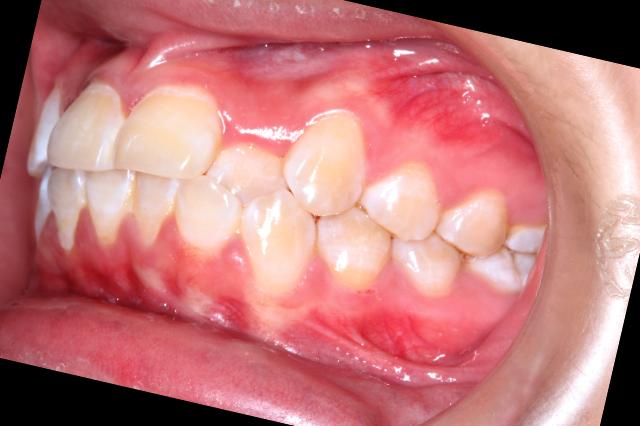canine class II 1/4: (222, 90, 420, 334)
